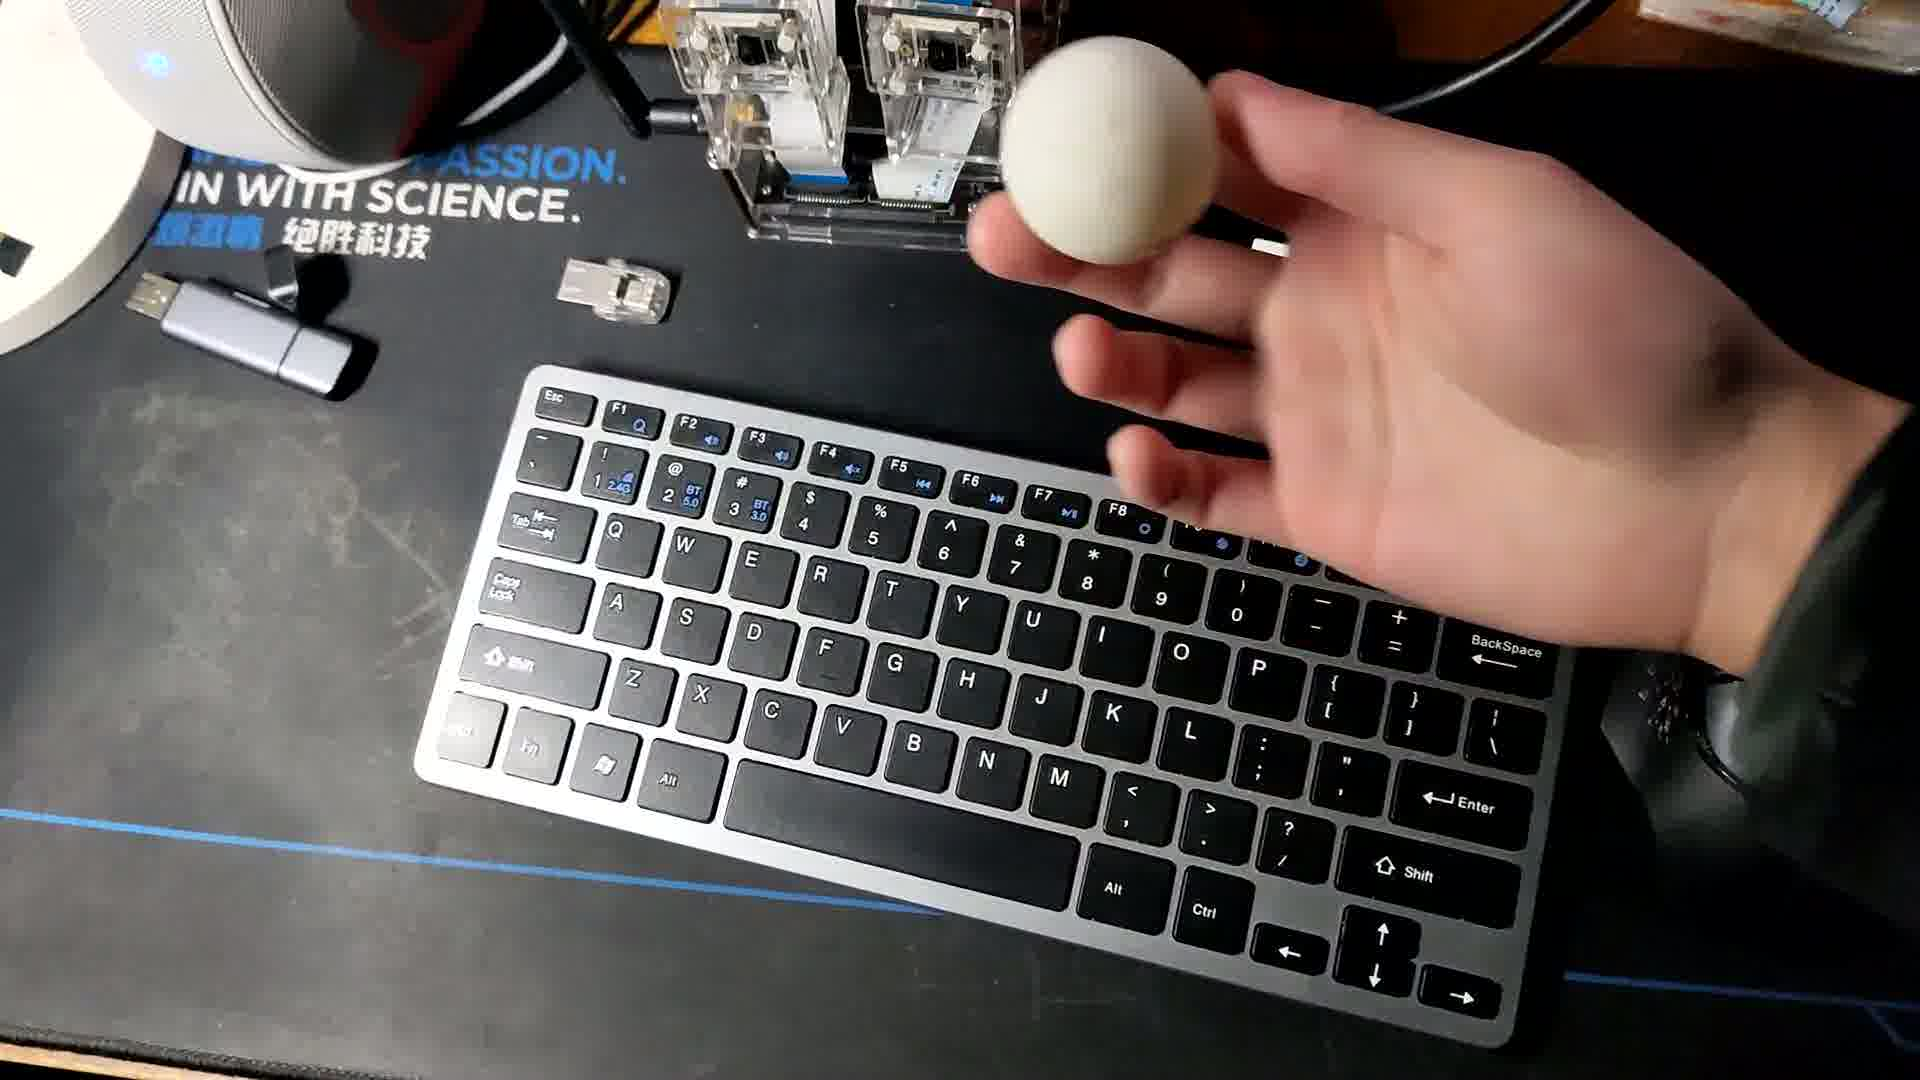Ball: (1000, 41, 1218, 274)
